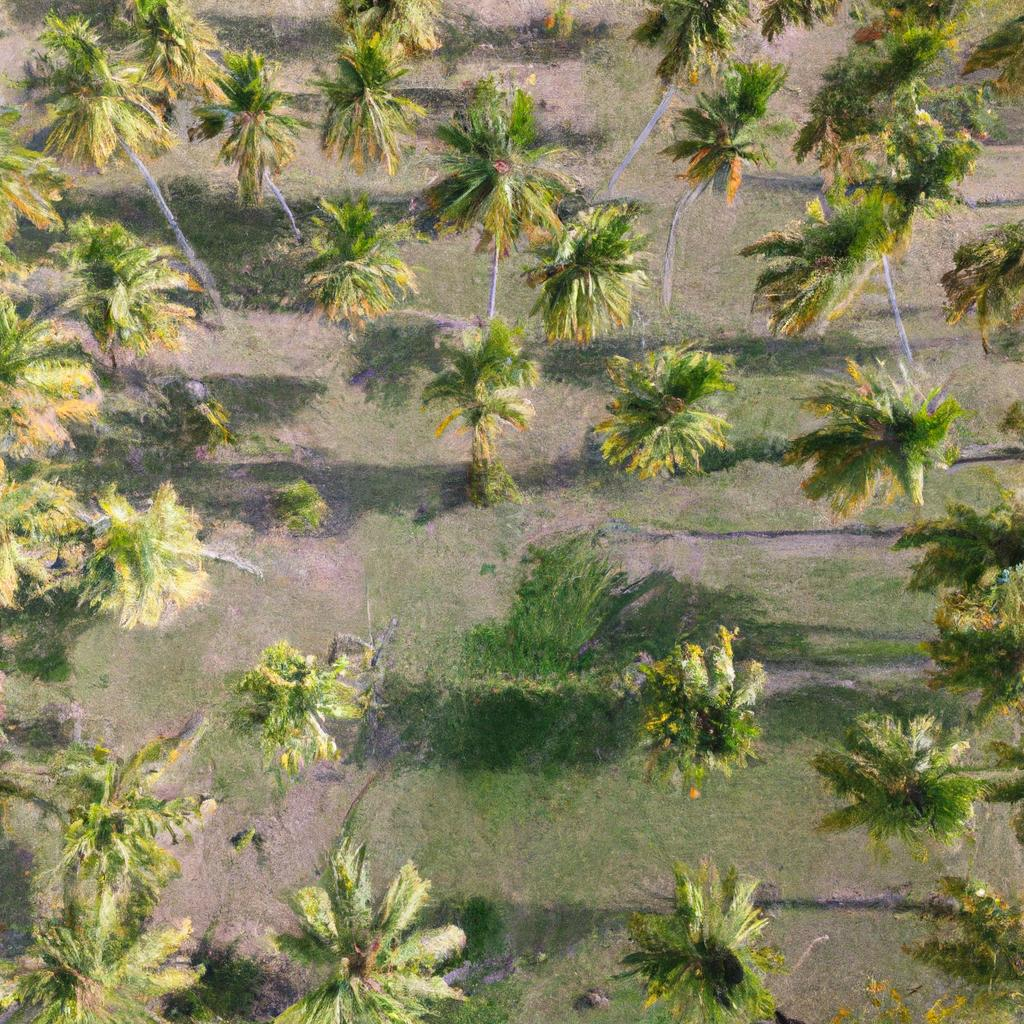coconut_tree: (253, 842, 515, 1023), (581, 854, 824, 1023), (815, 688, 1011, 867), (616, 624, 805, 789), (399, 79, 564, 260), (226, 628, 400, 783), (594, 335, 753, 502), (61, 213, 226, 364), (34, 8, 172, 183), (515, 194, 658, 350), (406, 317, 554, 461), (180, 50, 324, 188)
